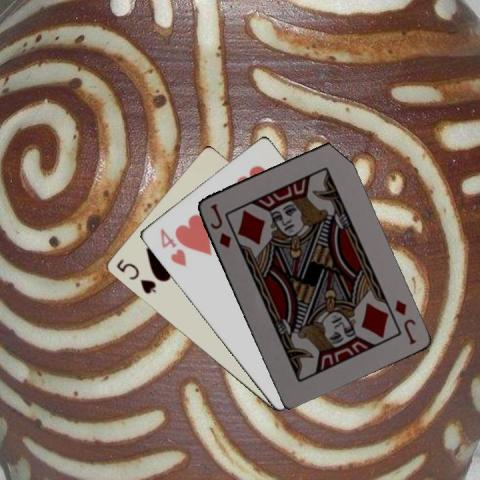4h: (157, 225, 187, 268)
5s: (113, 256, 157, 296)
Jd: (391, 297, 418, 346), (206, 201, 232, 249)
